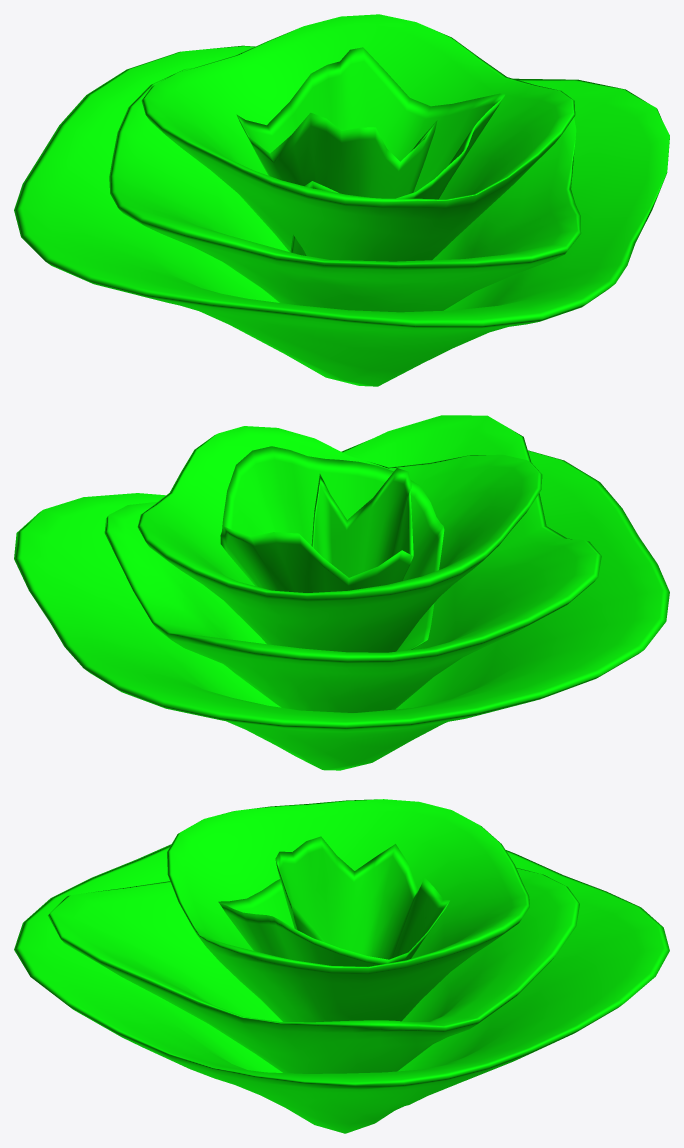
The model's file is lettuce_coral_low.fbx.
3 renders of one model, top to bottom at view 1: azimuth 30°, elevation 25°; view 2: azimuth 150°, elevation 25°; view 3: azimuth 270°, elevation 25°, orthographic. The views are drawn at different scales.
Parts seen in each view (by area): view 1: lettuce_coral_1_low; view 2: lettuce_coral_1_low; view 3: lettuce_coral_1_low.
Part boxes in pixels (x1,y1,x2,y2): lettuce_coral_1_low: (14,14,669,386); lettuce_coral_1_low: (14,415,669,770); lettuce_coral_1_low: (14,799,669,1133).
Bounding box in the file's own units: 60.85 × 27.85 × 62.05.
